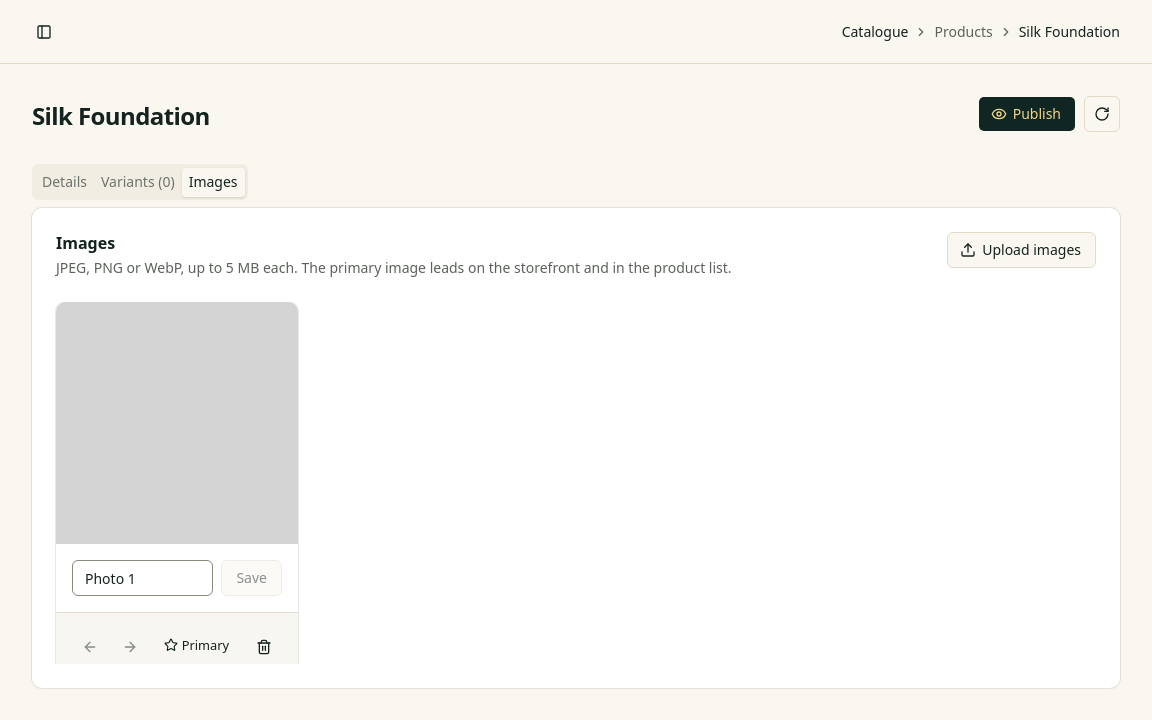
Test: product images › deletes an image only after the confirmation
Click the button named "Delete image 1".
click(264, 647)  # box 246,629 -> 282,665
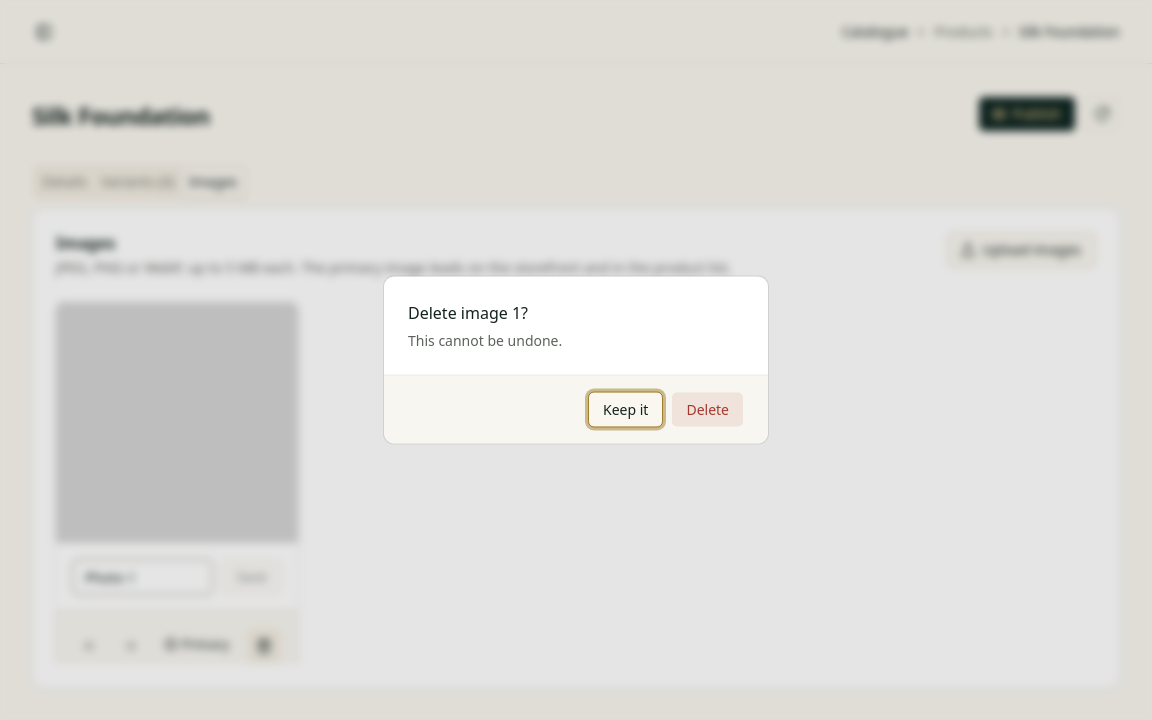
Click the button "Delete".
click(708, 410)  # box 671,392 -> 744,428
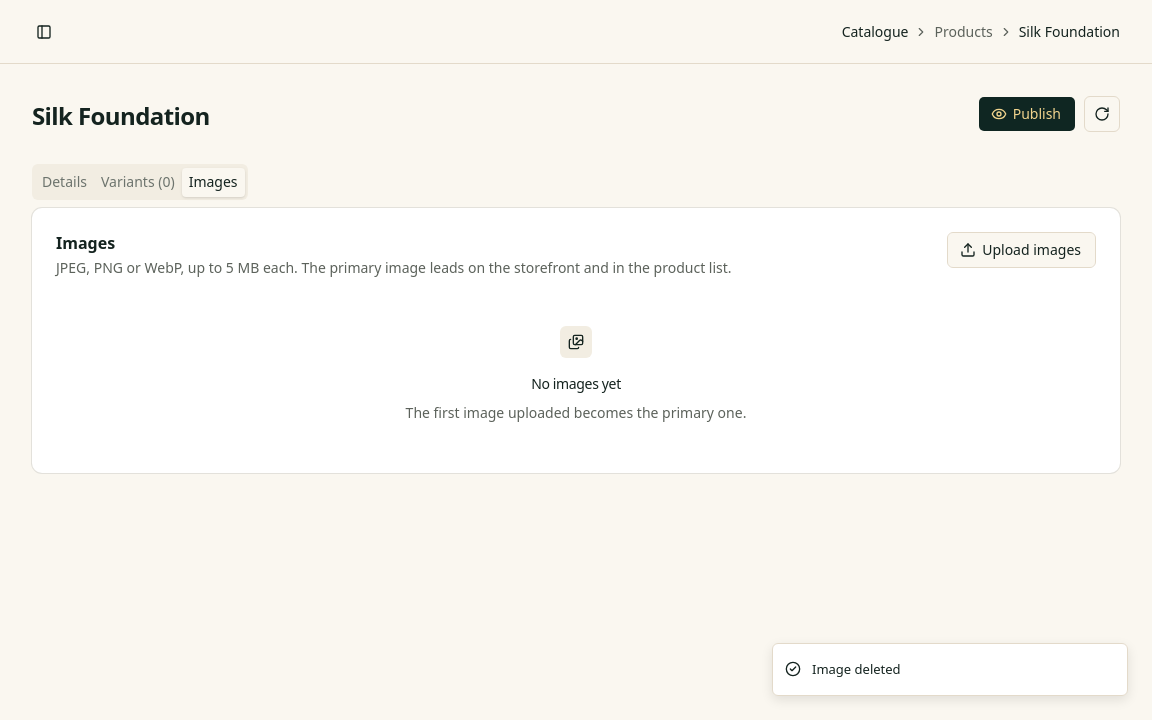
Check: the text "No images yet" is shown, box 531,374 -> 621,394
